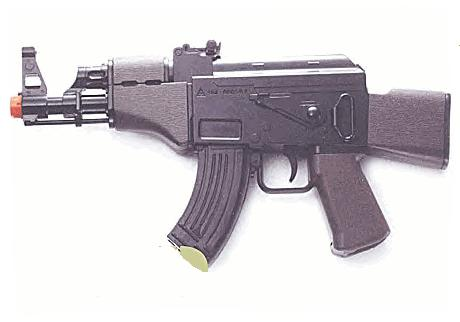rifle: (16, 24, 459, 275)
